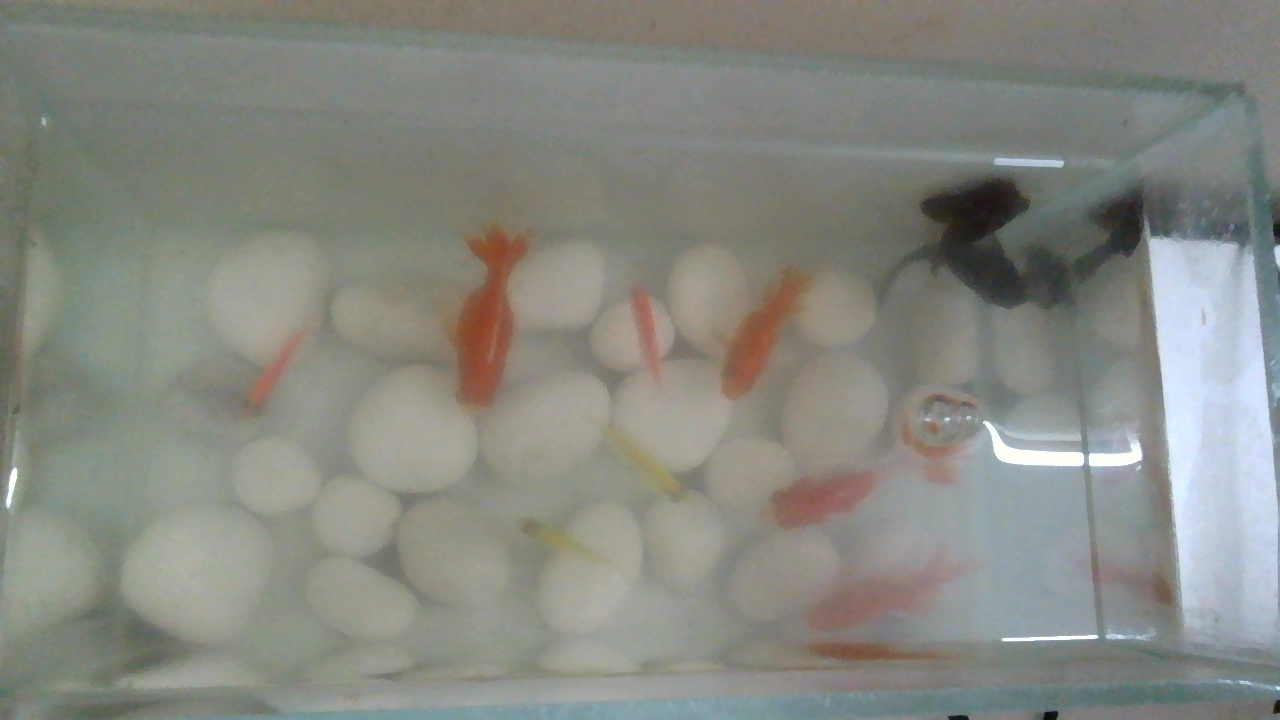fish: (454, 219, 521, 416)
